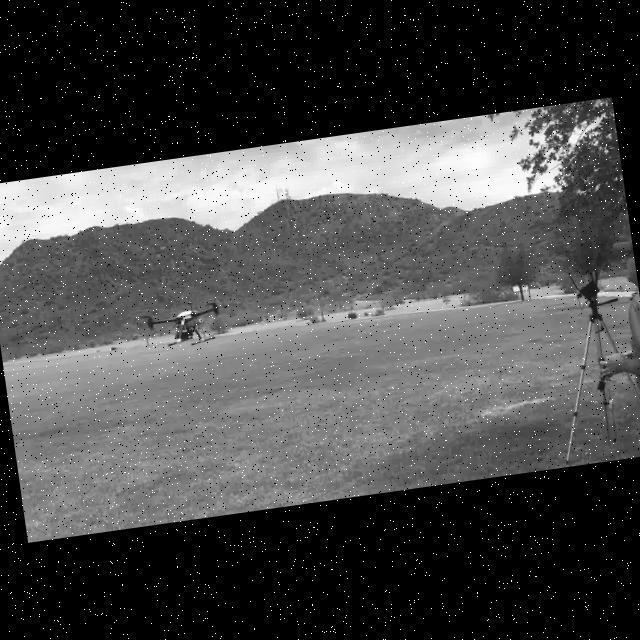Drons: (130, 278, 228, 365)
